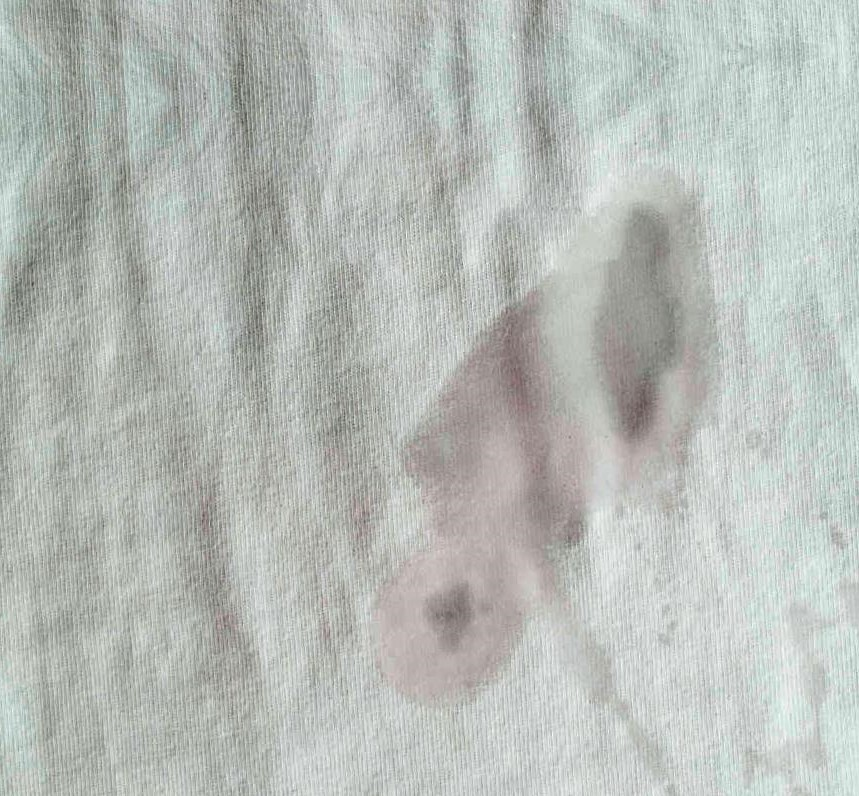stain: (348, 152, 740, 722)
